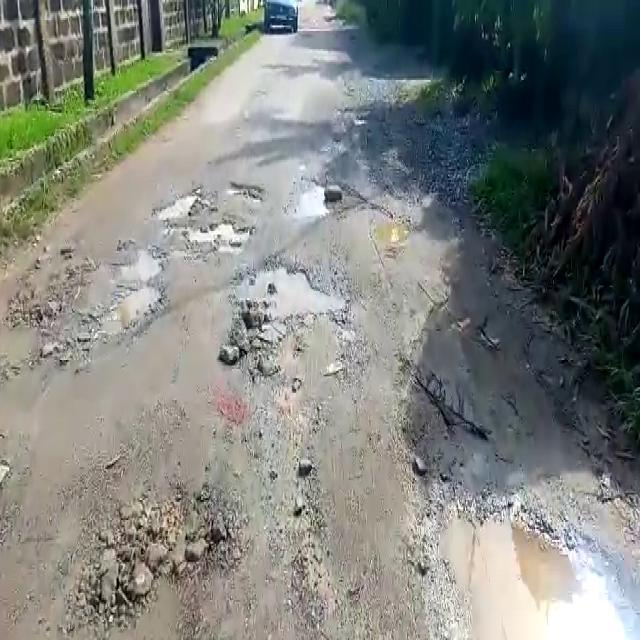Pothole: (431, 503, 638, 640), (239, 258, 350, 314), (99, 286, 164, 338), (182, 216, 252, 249), (288, 175, 334, 219), (114, 244, 164, 279), (368, 212, 412, 249), (153, 191, 202, 223), (226, 178, 268, 202)
